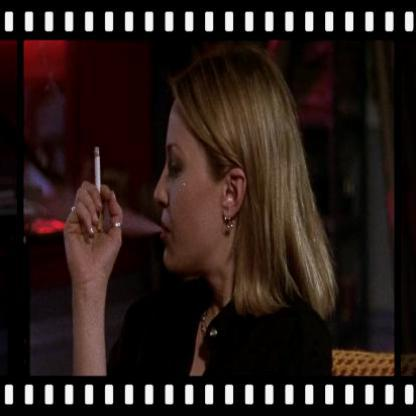cigarette: (93, 144, 104, 198)
person: (141, 53, 326, 377)
